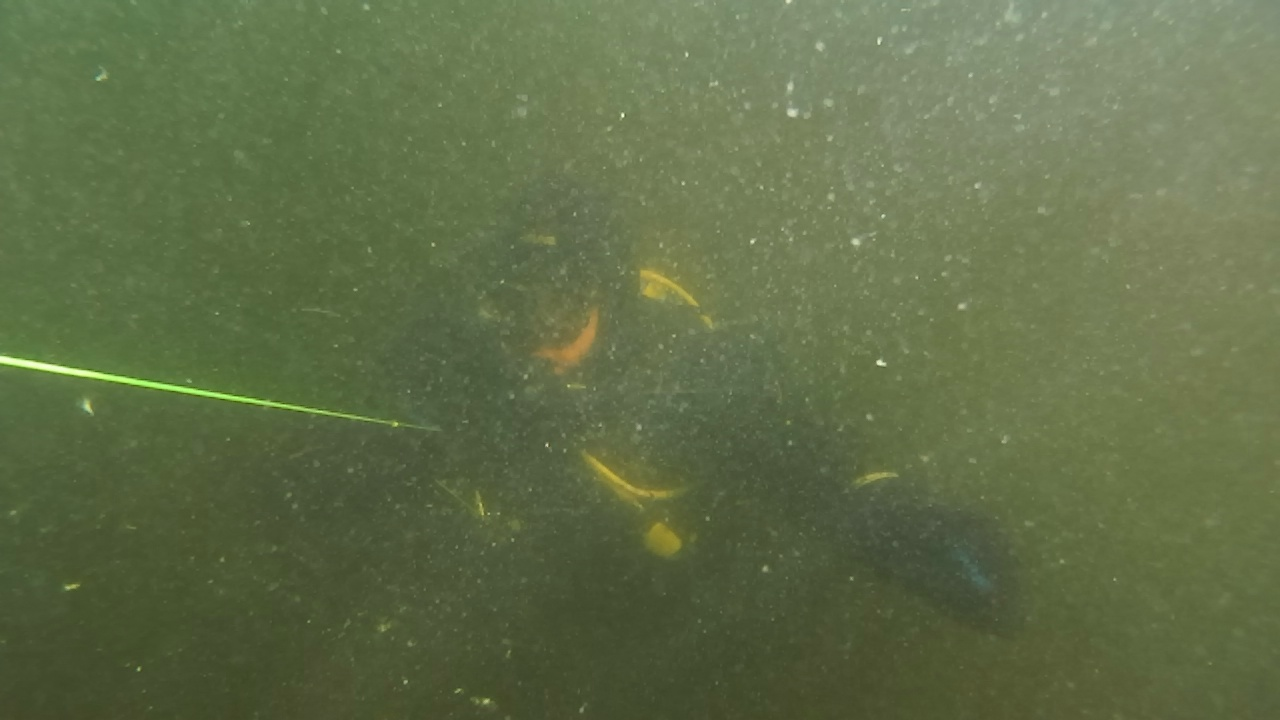Diver: (264, 200, 1056, 658)
Hand: (836, 472, 1062, 652)
Head: (424, 186, 668, 420)
